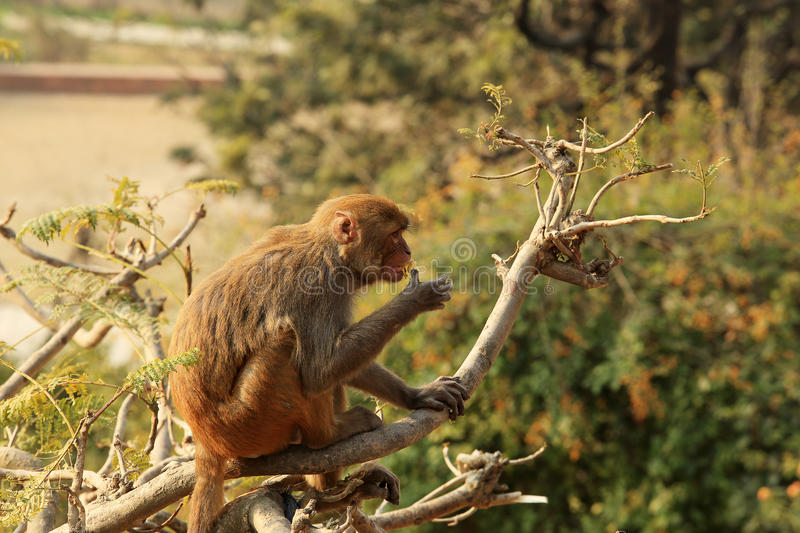monkey: (164, 189, 479, 509)
